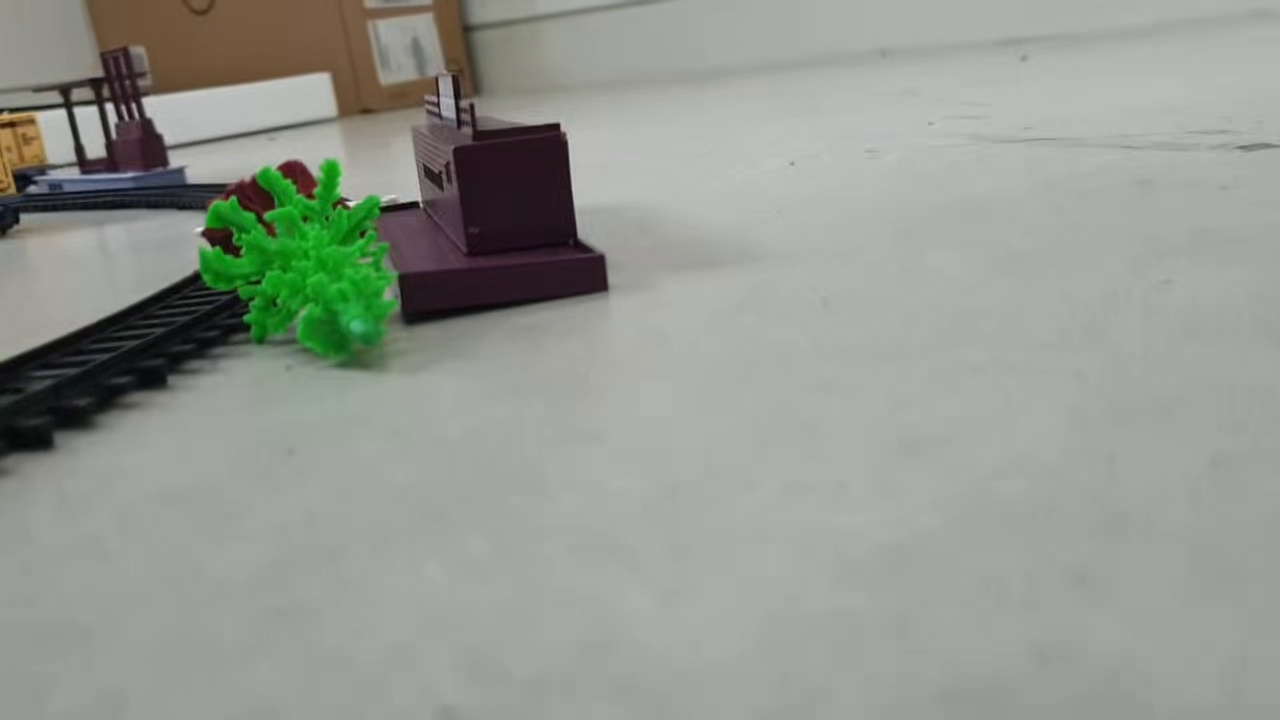tree: (196, 156, 406, 371)
